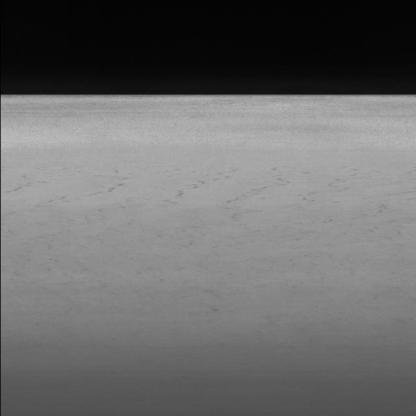silk_spot: (17, 162, 302, 238)
